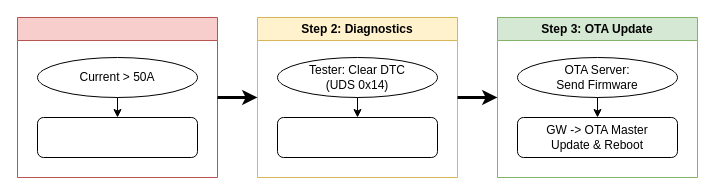
This 715x195 diagram has some shape labels left out. Here are the shapes that lost their labels. From the top down, the box of each, then its label:
(16, 16, 218, 178): Step 1: Fault Detection
(36, 116, 198, 158): BCM: Set DTC Warning ON
(276, 116, 438, 158): Gateway: Clear Warning OFF
